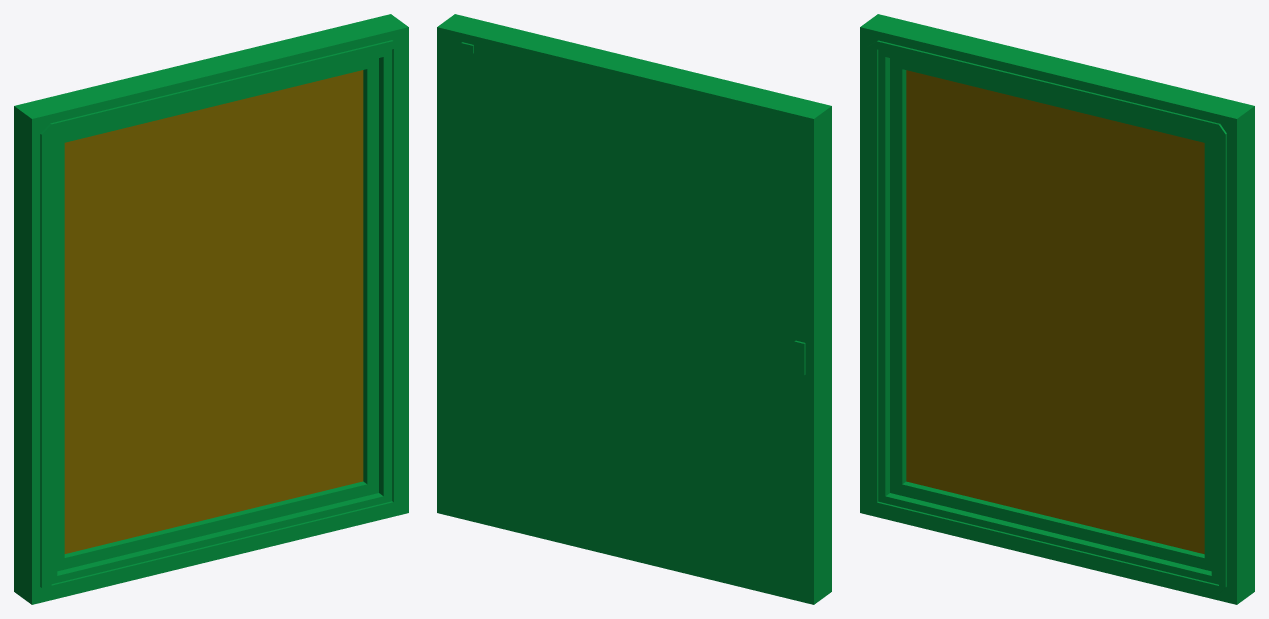
Rendered from PictureFrameLow.fbx.
3 views of the same model, side by side, from view 1: azimuth 30°, elevation 25°; view 2: azimuth 150°, elevation 25°; view 3: azimuth 330°, elevation 25° (orthographic).
Parts seen in each view (by area): view 1: pCube1; view 2: pCube1; view 3: pCube1.
Boxes of the visible parts, x1,y1,x2,y2 form: pCube1: (14, 14, 408, 604); pCube1: (437, 14, 831, 604); pCube1: (860, 14, 1254, 604).
Size of the model in its own units: 16.17 by 19.93 by 1.53.
